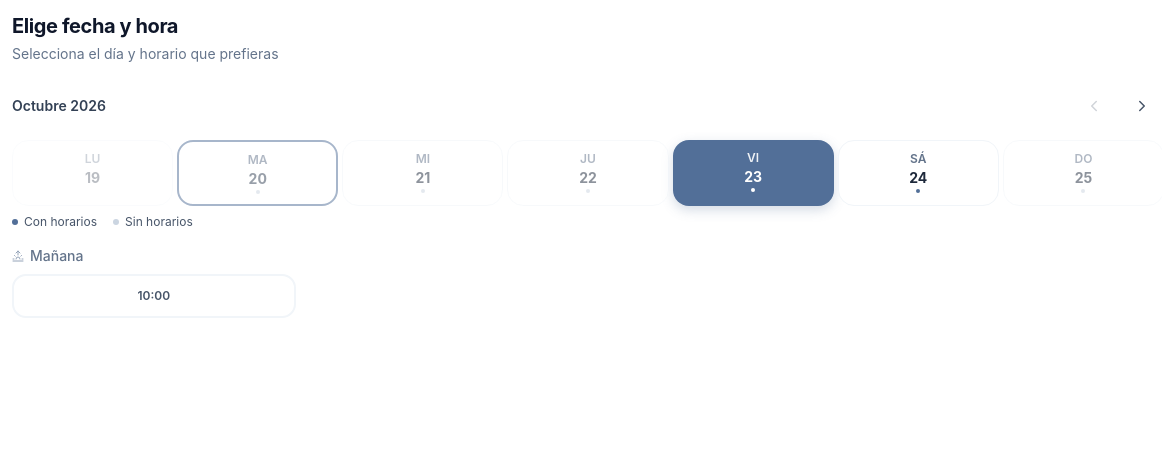
PasoFechaHora — consulta semanal › pide toda la semana en una sola petición y abrir otros días no vuelve a pedirlos
Expected: the button "10:00" is shown, 12,274 -> 296,318
Click the button "Sá 24". click: (918, 173)
box: 838,140 -> 999,206
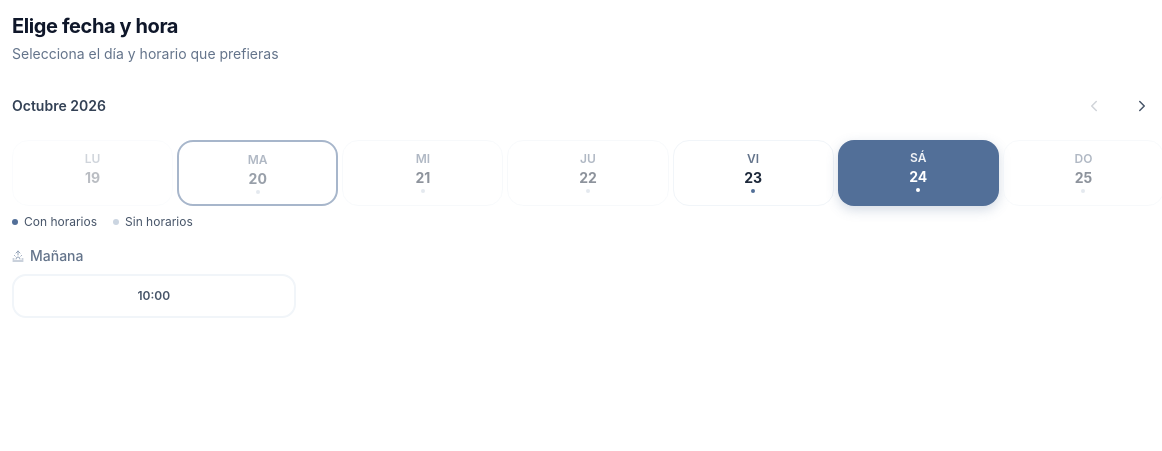
Expected: the button "10:00" is shown, 12,274 -> 296,318
Now the button "Sá 24" is pressed, box 838,140 -> 999,206
Click the button "Mi 21". click: (423, 173)
box: 342,140 -> 503,206
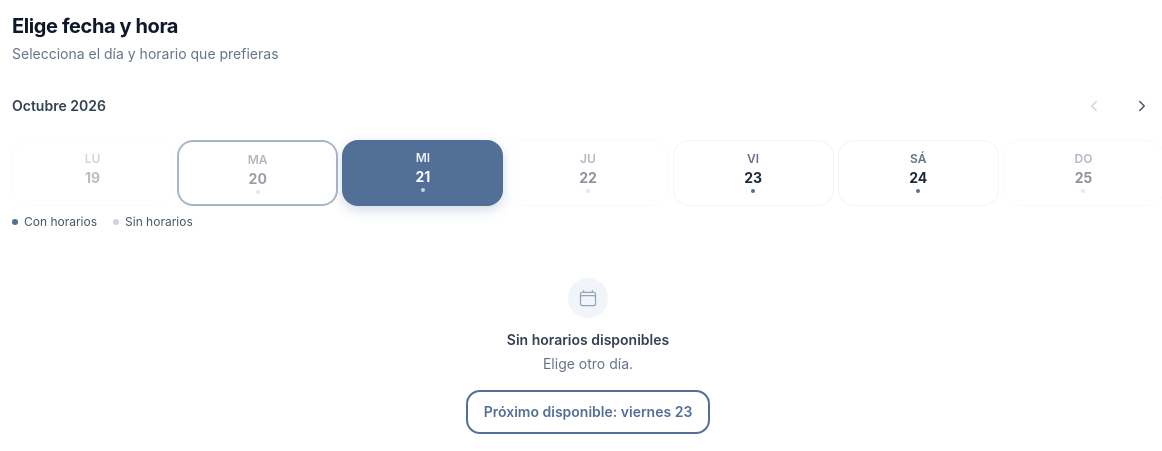
Now the text "Sin horarios disponibles" is shown, box 507,331 -> 669,348
